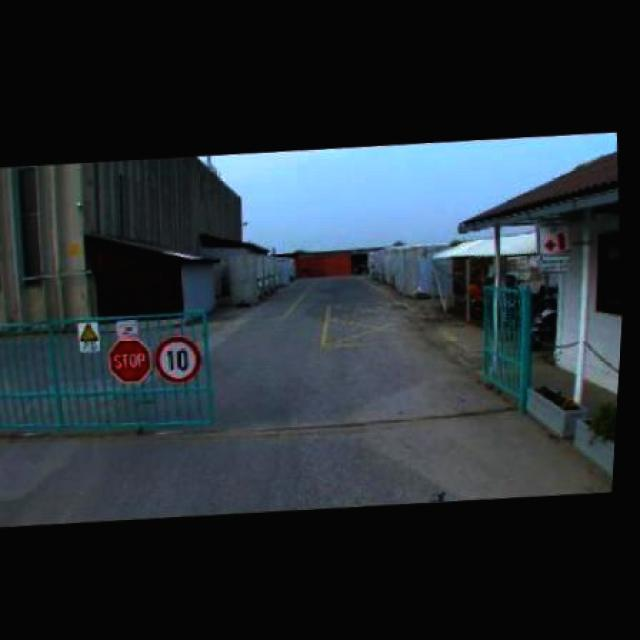stop_sign: (108, 332, 160, 385)
